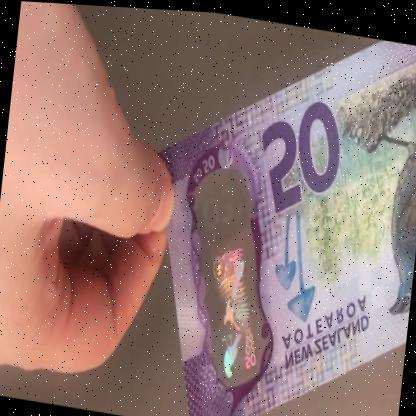50B: (192, 172, 274, 382)
